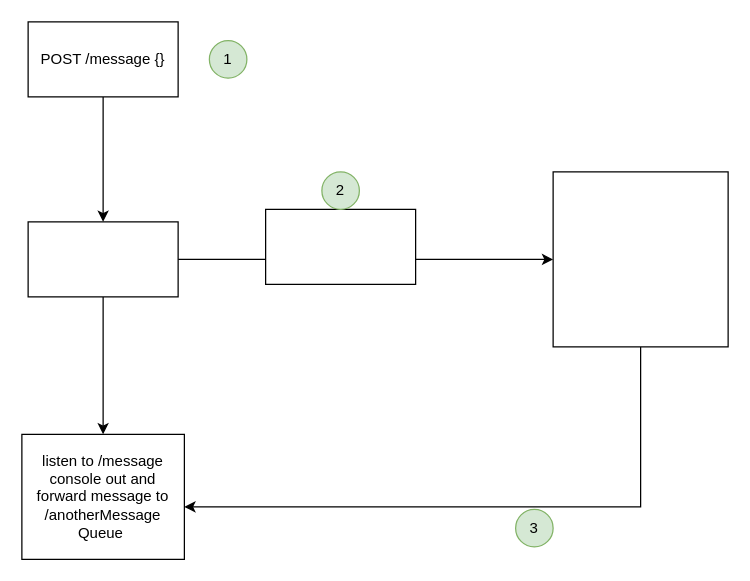
The diagram is 750 pixels wide and 581 high, and some of its shapes have lost their labels. The shapes that lost their labels are listed below. From the top down, each one's box as (x1, y1, x2, y2) in pixels, then its label:
(27, 221, 178, 297): Mule App
(264, 208, 416, 284): post a message to queue /message
(552, 171, 728, 347): Rabbit MQ
